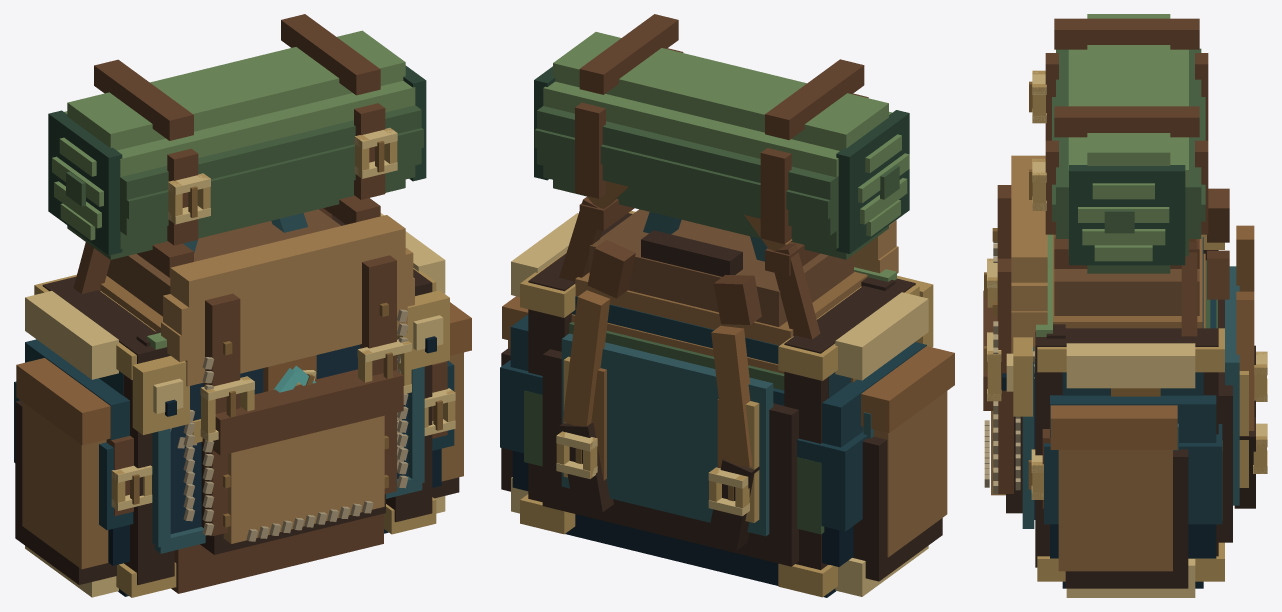
File: bag-kit.glb
3 renders of one model, left to right at view 1: azimuth 30°, elevation 25°; view 2: azimuth 150°, elevation 25°; view 3: azimuth 270°, elevation 25°, orthographic. The views are drawn at different scales.
Visible parts, largest first — view 1: bag-wayfarer-pack-mesh, bag-runewoven-holdall-mesh, bag-trail-satchel-mesh; view 2: bag-wayfarer-pack-mesh, bag-runewoven-holdall-mesh, bag-trail-satchel-mesh; view 3: bag-wayfarer-pack-mesh, bag-runewoven-holdall-mesh, bag-trail-satchel-mesh.
Part boxes in pixels (<box>): bag-wayfarer-pack-mesh: <box>15,14,471,593</box>; bag-runewoven-holdall-mesh: <box>14,213,454,597</box>; bag-trail-satchel-mesh: <box>73,208,332,448</box>; bag-wayfarer-pack-mesh: <box>501,14,954,581</box>; bag-runewoven-holdall-mesh: <box>500,211,933,597</box>; bag-trail-satchel-mesh: <box>524,181,896,566</box>; bag-wayfarer-pack-mesh: <box>983,14,1267,588</box>; bag-runewoven-holdall-mesh: <box>1002,234,1248,597</box>; bag-trail-satchel-mesh: <box>1033,234,1232,542</box>.
Bounding box in the file's own units: 1.04 × 1.2 × 0.6845.
